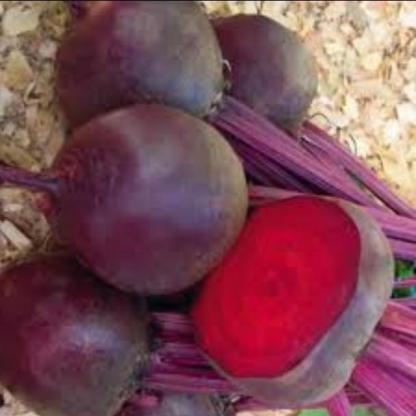beet: (185, 188, 398, 415), (35, 100, 250, 300), (0, 255, 164, 416), (42, 0, 234, 123), (208, 13, 327, 161), (134, 368, 233, 416)
